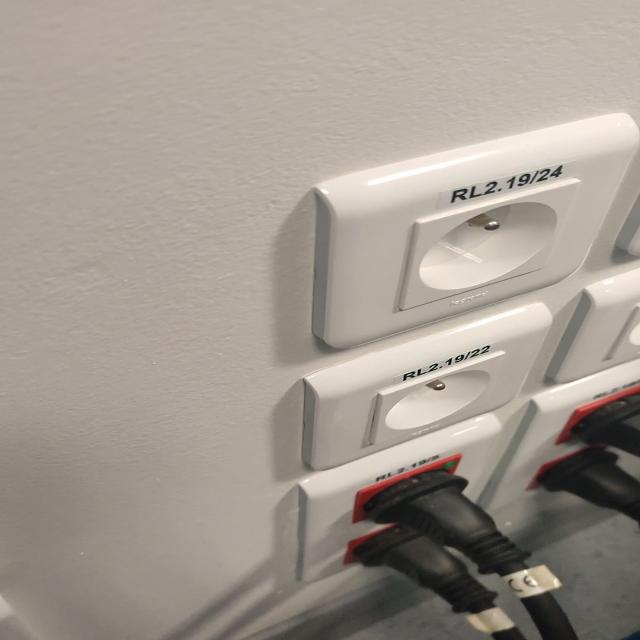house plug: (399, 179, 574, 312), (372, 353, 502, 445)
